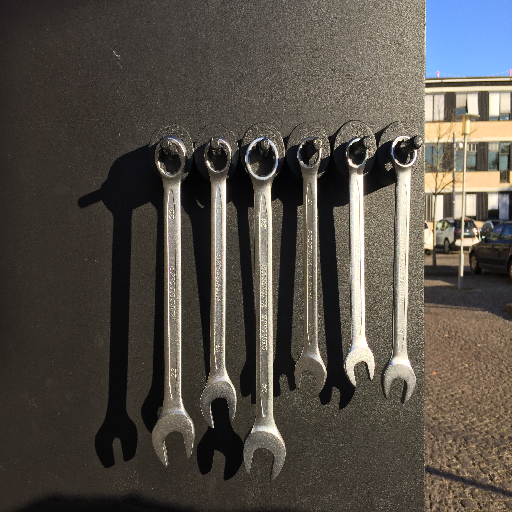bottom: (149, 410, 198, 469), (240, 429, 287, 484), (195, 379, 242, 430), (292, 354, 326, 400), (381, 363, 417, 406), (343, 347, 378, 390)
top: (151, 134, 192, 181), (244, 137, 280, 182), (201, 134, 234, 176), (388, 133, 423, 171), (342, 136, 372, 172), (295, 135, 326, 169)
